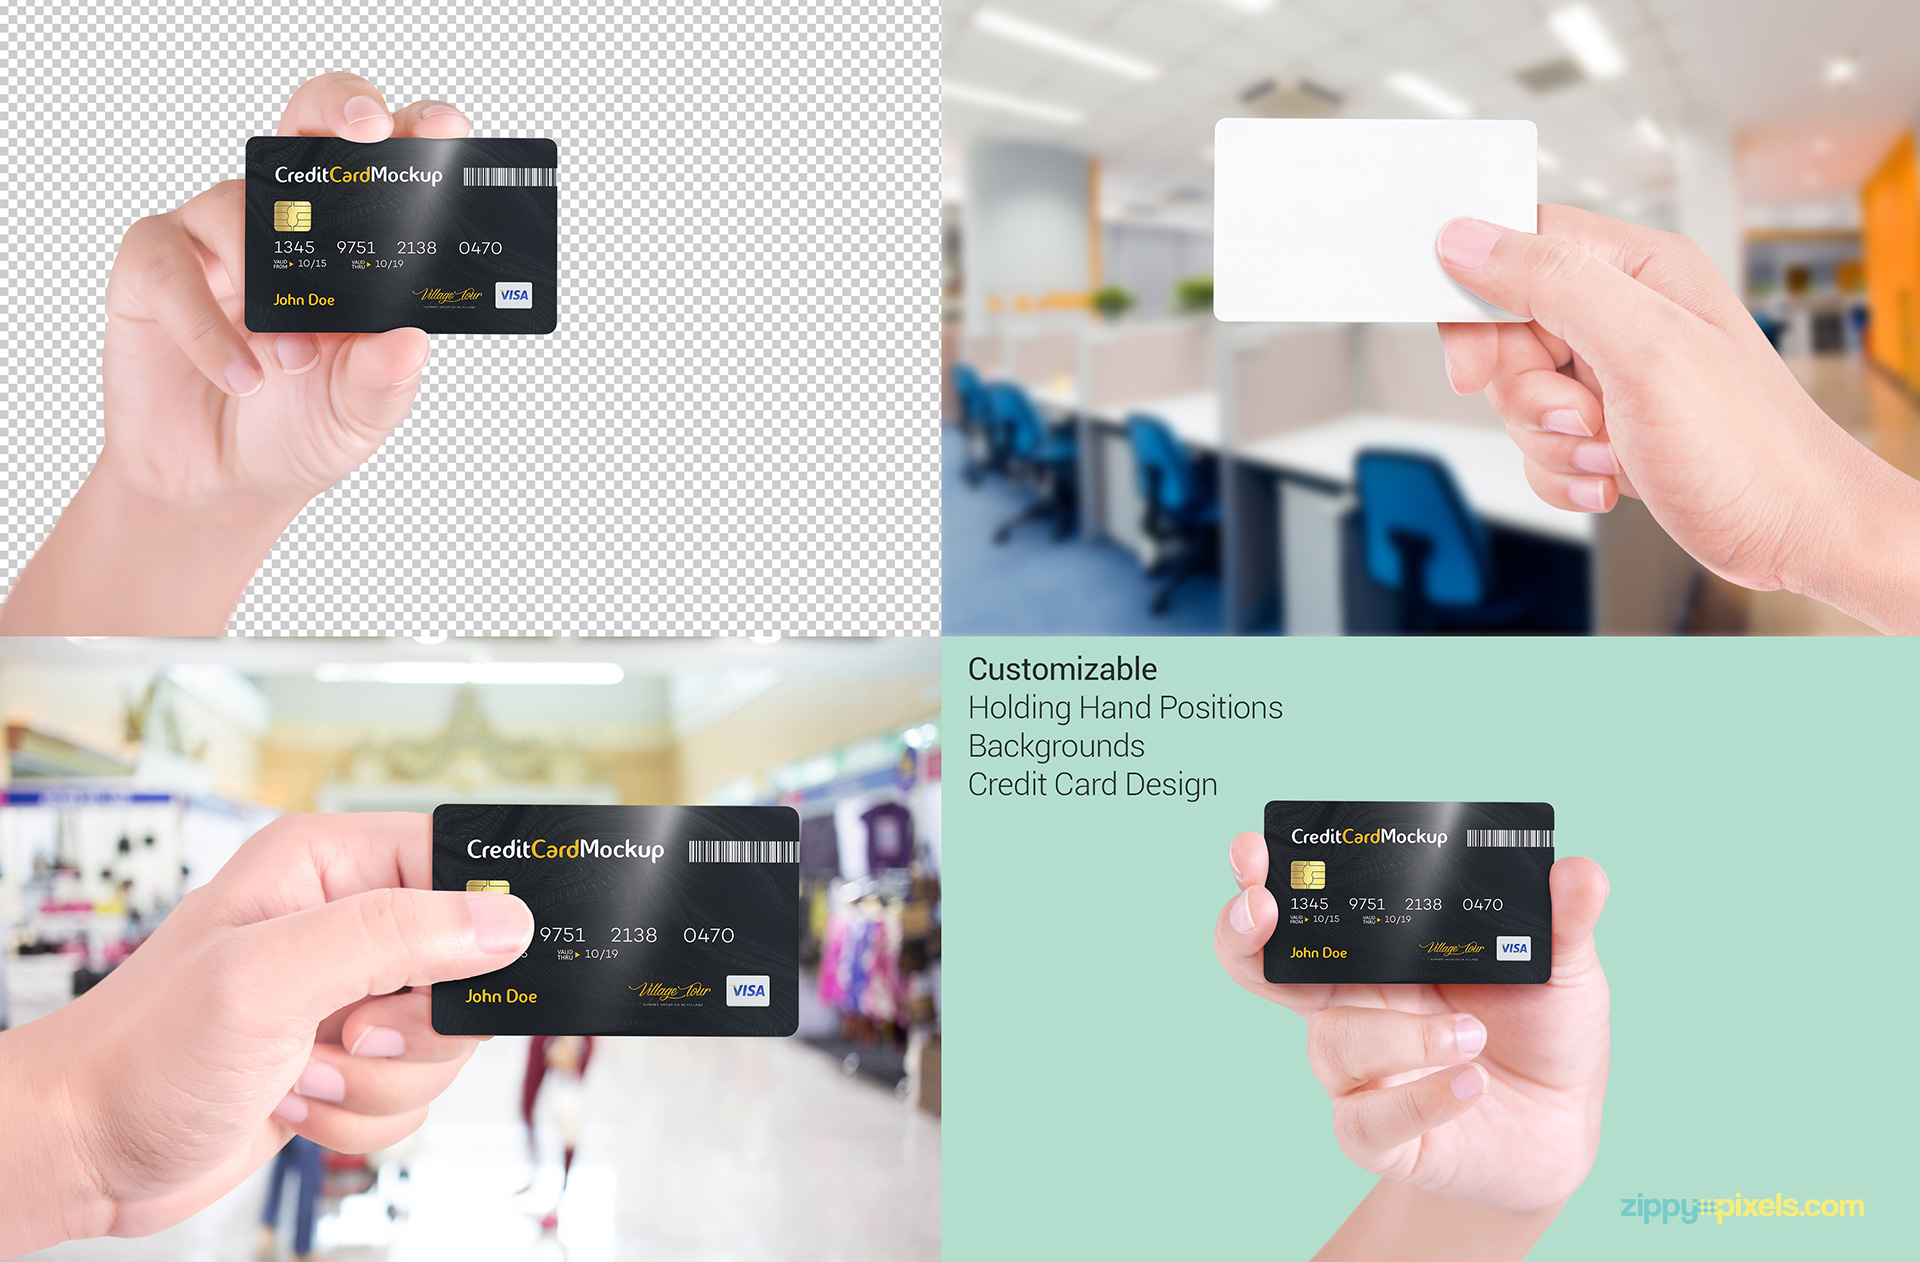tarjeta: (430, 799, 802, 1042), (1209, 115, 1544, 325), (239, 135, 562, 337), (1264, 797, 1557, 987)
